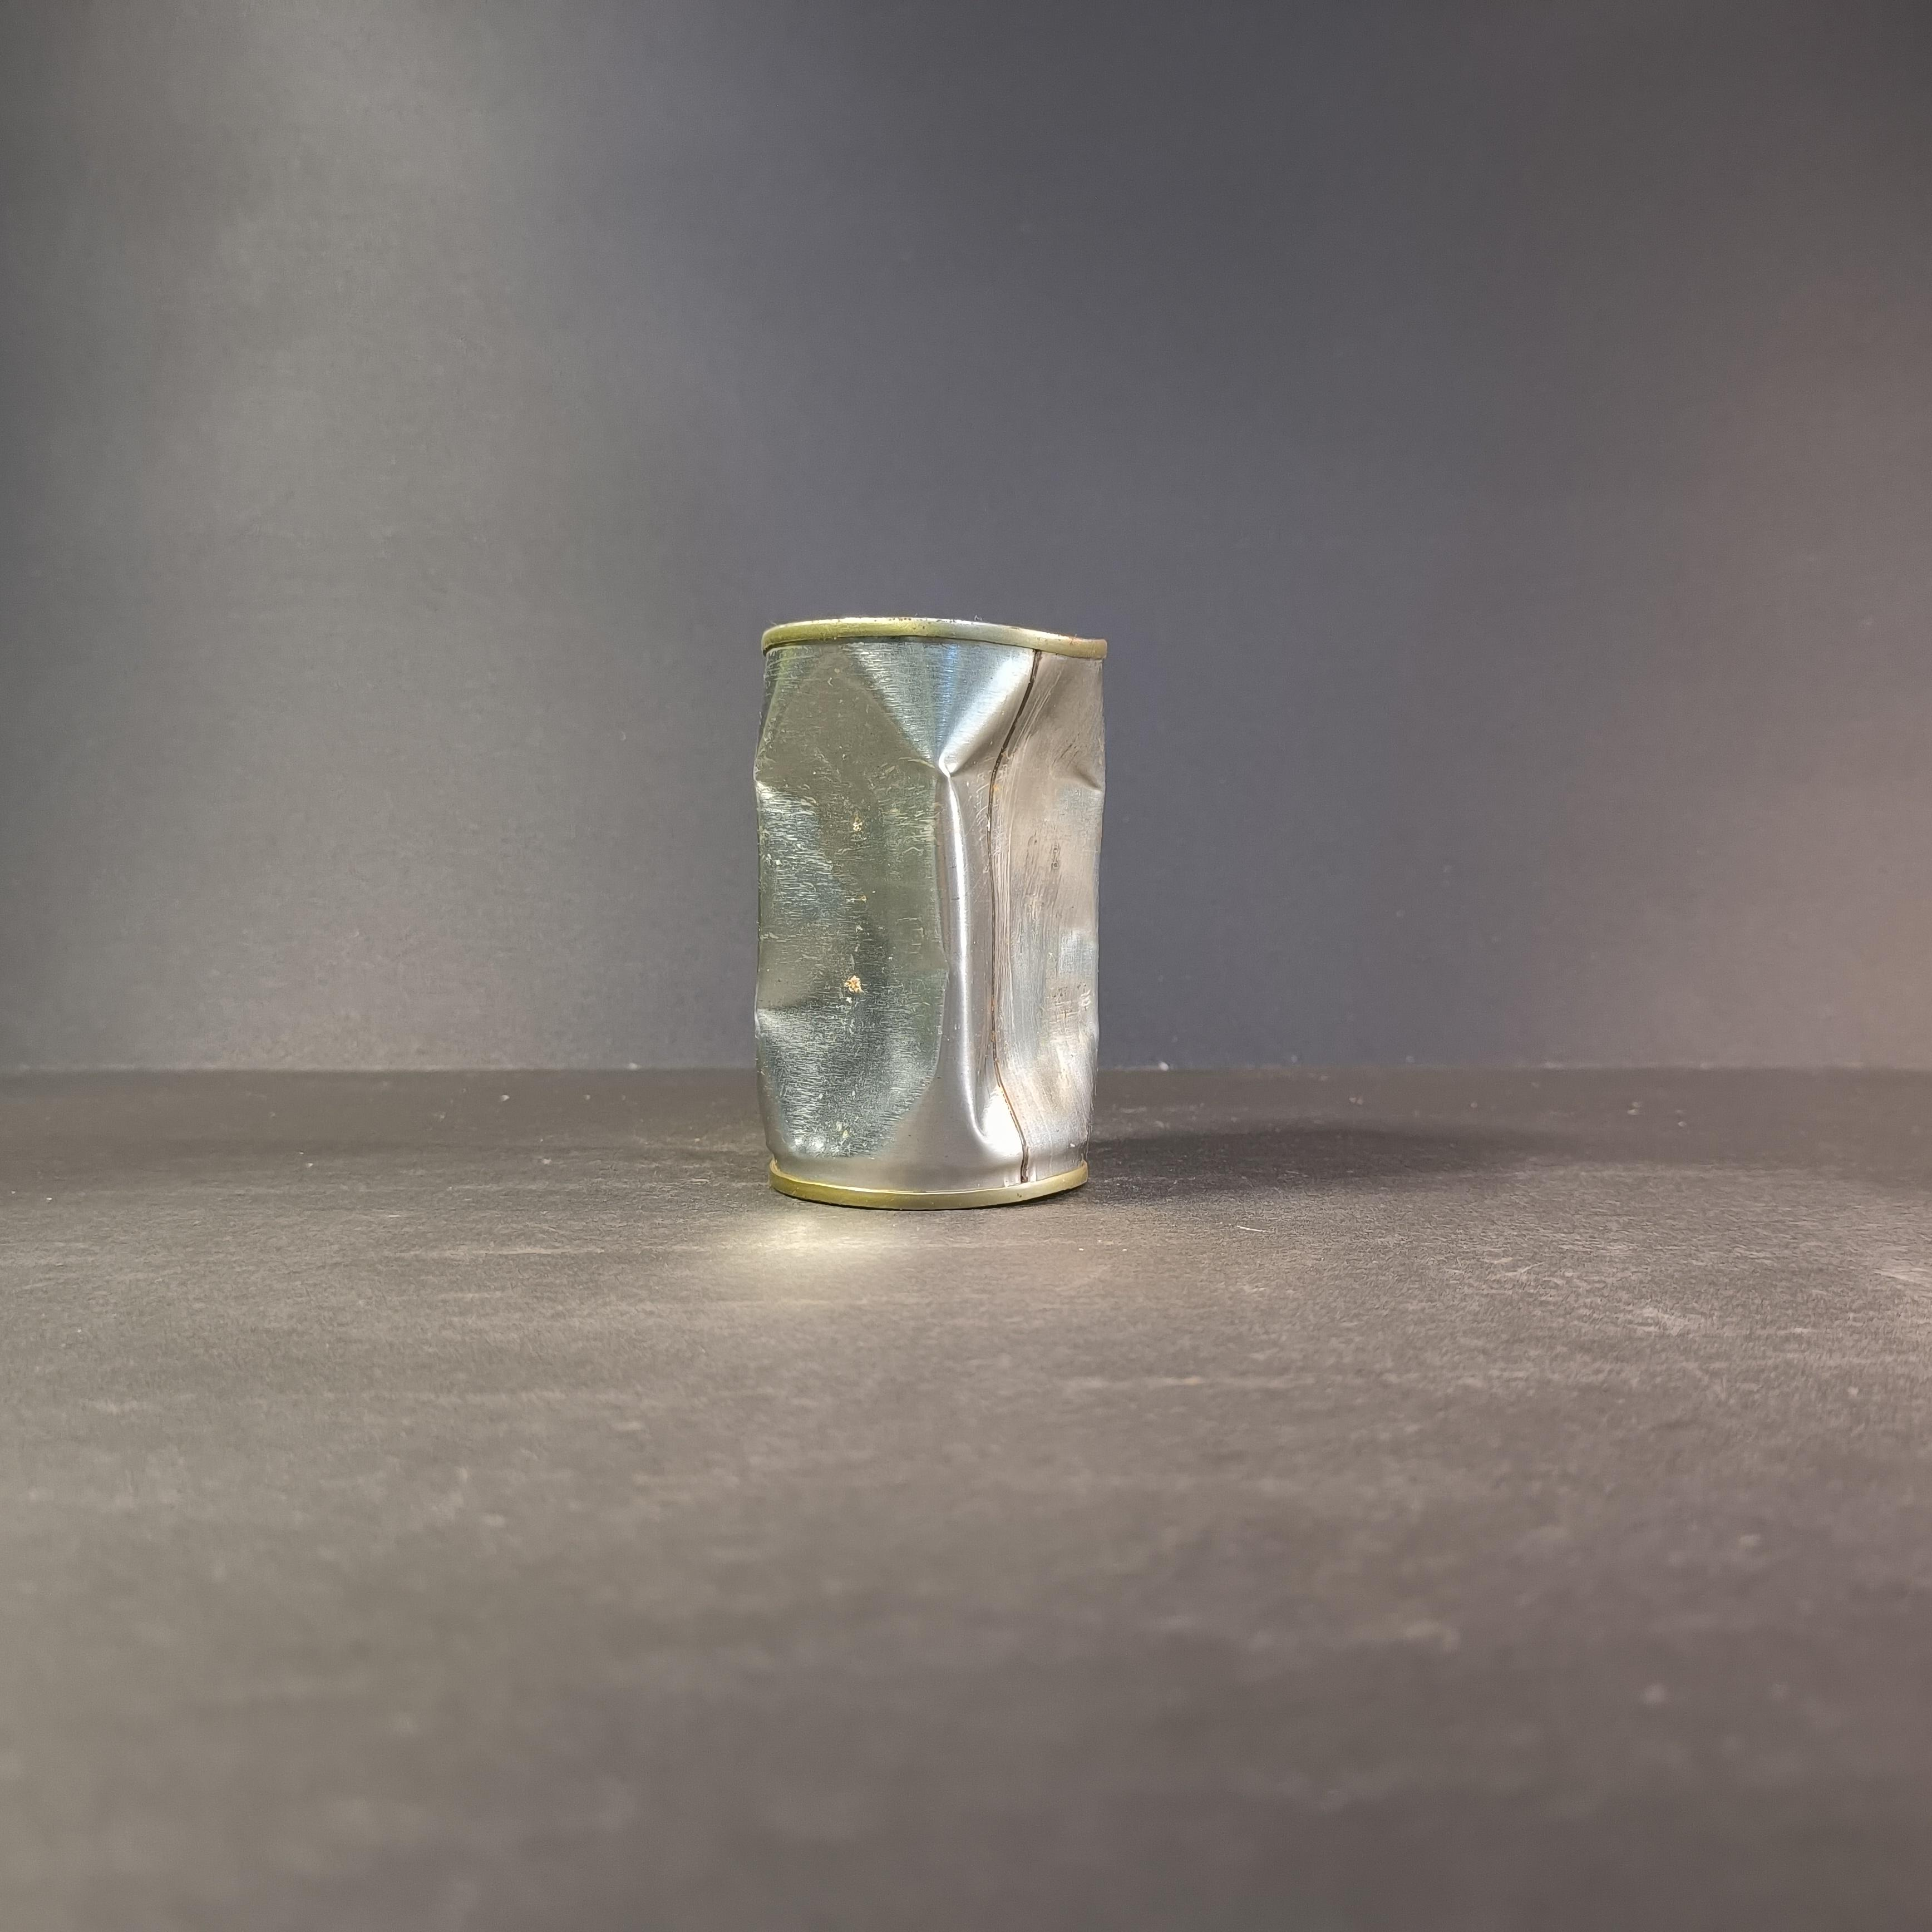Major Defect: (754, 617, 1108, 1215)
